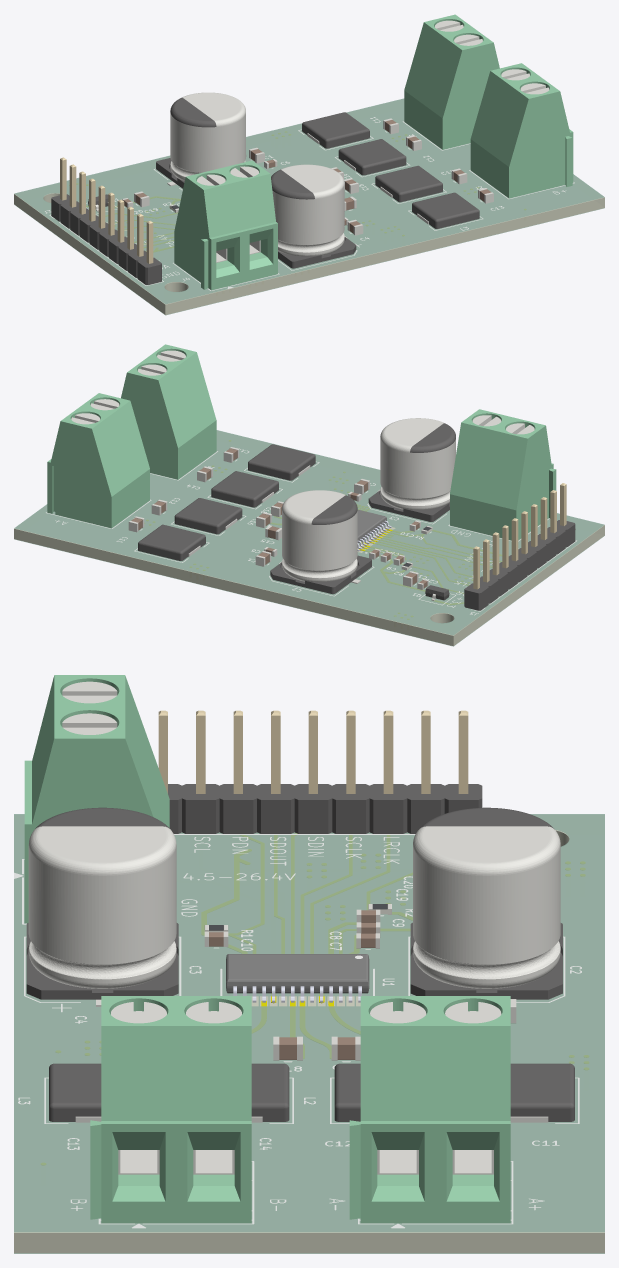
The model's file is iw-digital-amplifier-3d.glb.
3 views of the same model, one above another, from view 1: azimuth 30°, elevation 25°; view 2: azimuth 150°, elevation 25°; view 3: azimuth 270°, elevation 25° (orthographic). The views are drawn at different scales.
Parts seen in each view (by area): view 1: Node15, Node19, Node18, Node8, Node9, Node5, Node1, Node4; view 2: Node19, Node18, Node15, Node8, Node9, Node5, Node1, Node4, Node11, Node2; view 3: Node19, Node18, Node15, Node8, Node9, Node5, Node1, Node11, Node2, Node4, Node6, Node3.
Part boxes in pixels (<box>): Node15: <box>174,14,573,290</box>; Node19: <box>14,99,604,314</box>; Node18: <box>14,98,604,315</box>; Node8: <box>95,20,549,262</box>; Node9: <box>51,97,479,284</box>; Node5: <box>60,157,153,263</box>; Node1: <box>45,117,574,290</box>; Node4: <box>123,120,491,233</box>; Node19: <box>14,431,604,646</box>; Node18: <box>14,430,604,646</box>; Node15: <box>47,344,556,540</box>; Node8: <box>71,350,534,600</box>; Node9: <box>138,423,575,610</box>; Node5: <box>473,483,566,589</box>; Node1: <box>46,448,576,615</box>; Node4: <box>131,448,427,588</box>; Node11: <box>357,510,386,543</box>; Node2: <box>146,481,500,619</box>; Node19: <box>14,815,604,1253</box>; Node18: <box>14,814,604,1253</box>; Node15: <box>24,675,510,1223</box>; Node8: <box>28,681,560,1174</box>; Node9: <box>26,784,574,1121</box>; Node5: <box>158,710,468,793</box>; Node1: <box>14,834,581,1228</box>; Node11: <box>226,954,369,993</box>; Node2: <box>42,833,588,1163</box>; Node4: <box>209,910,375,1059</box>; Node6: <box>233,986,361,1002</box>; Node3: <box>41,850,412,1164</box>.
Size of the model in its own units: 67 by 17.3 by 40.
